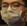with_mask: (1, 1, 27, 26)
